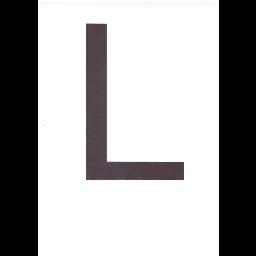l: (73, 16, 195, 194)
